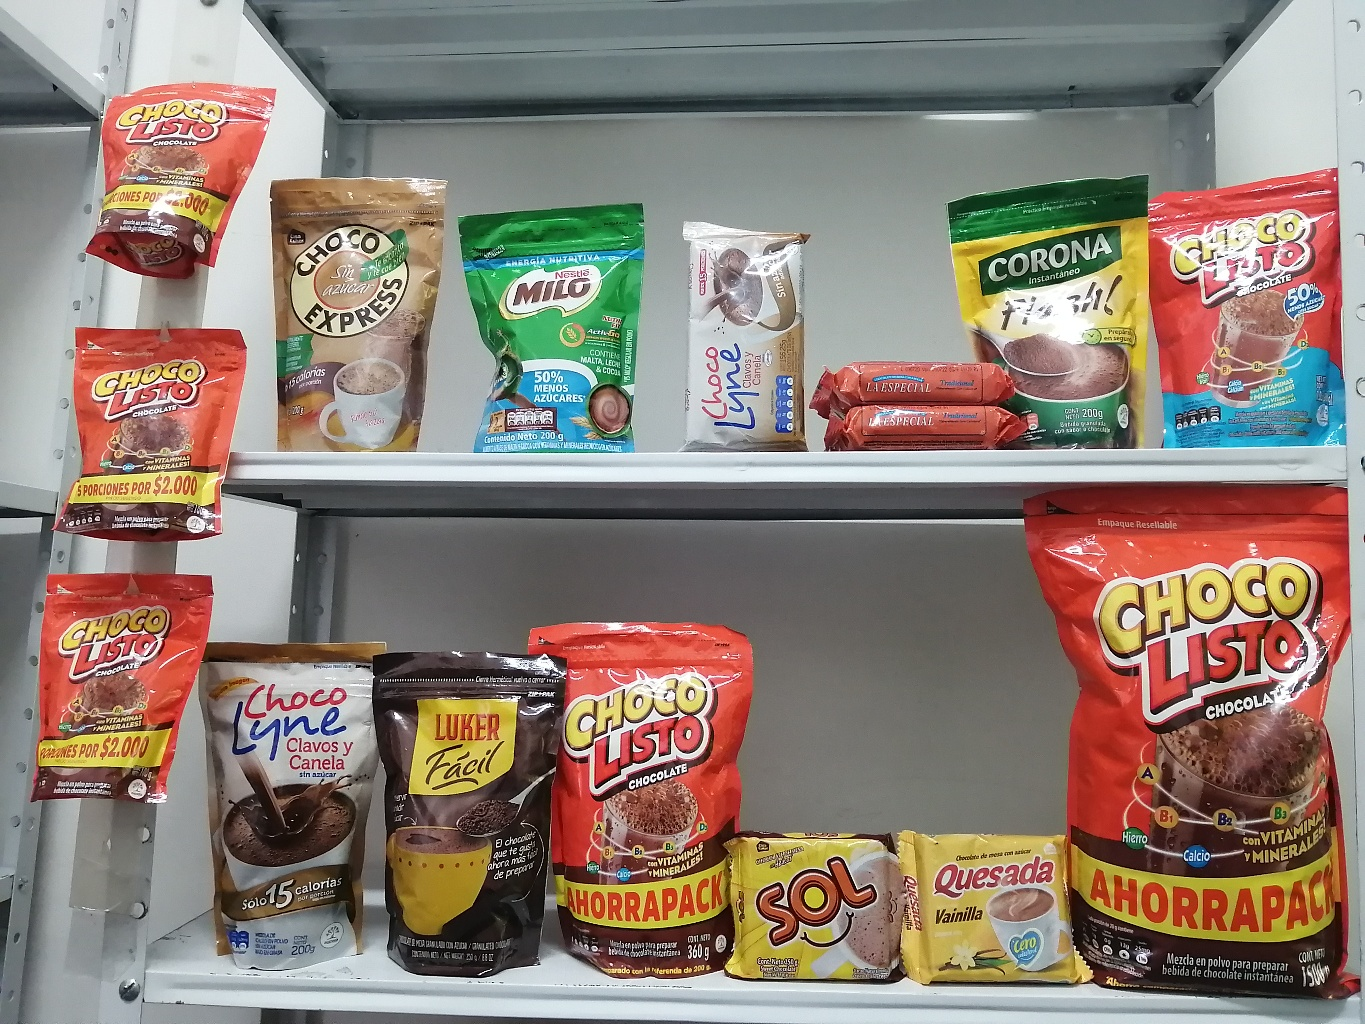COL0170103DYP1,500: (1032, 481, 1352, 999)
COL0170103DYP36000: (528, 602, 754, 979)
COL0170104DYP20000: (1146, 144, 1361, 444)
COL0170205DYP20000: (454, 189, 649, 457)
